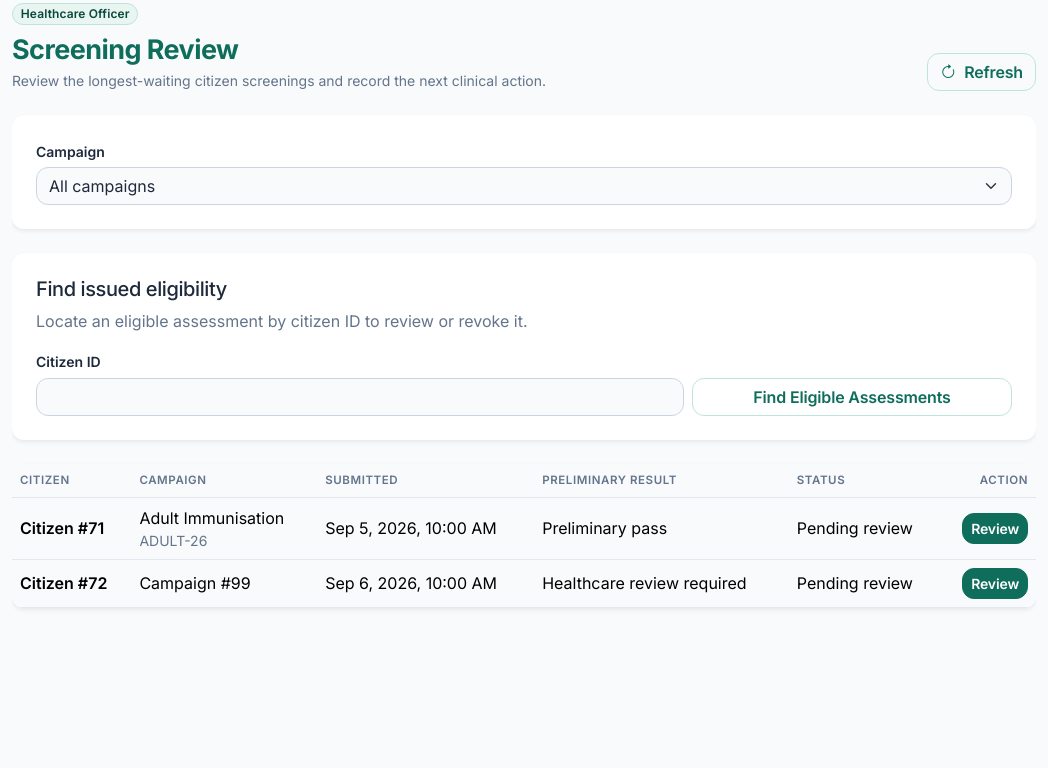
Scenario: HealthcareOfficerScreeningReviewQueuePage › validates the citizen ID before eligibility lookup
The width and height of the screenshot is (1048, 768).
Expected: the text "Citizen #71" is shown, [12,498,131,560]
Type "not-a-number" into the field labelled "Citizen ID".
click(360, 397); type("not-a-number")  # box [36,378,684,416]
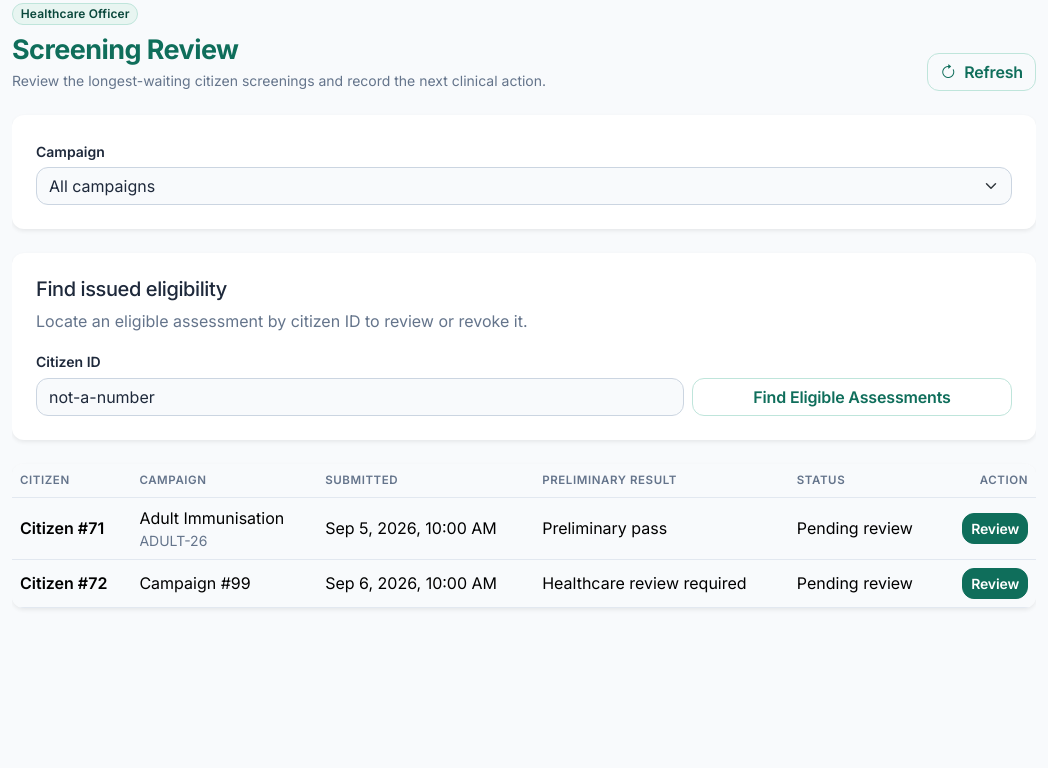
Click the button "Find Eligible Assessments".
click(852, 397)  # box [692,378,1012,416]
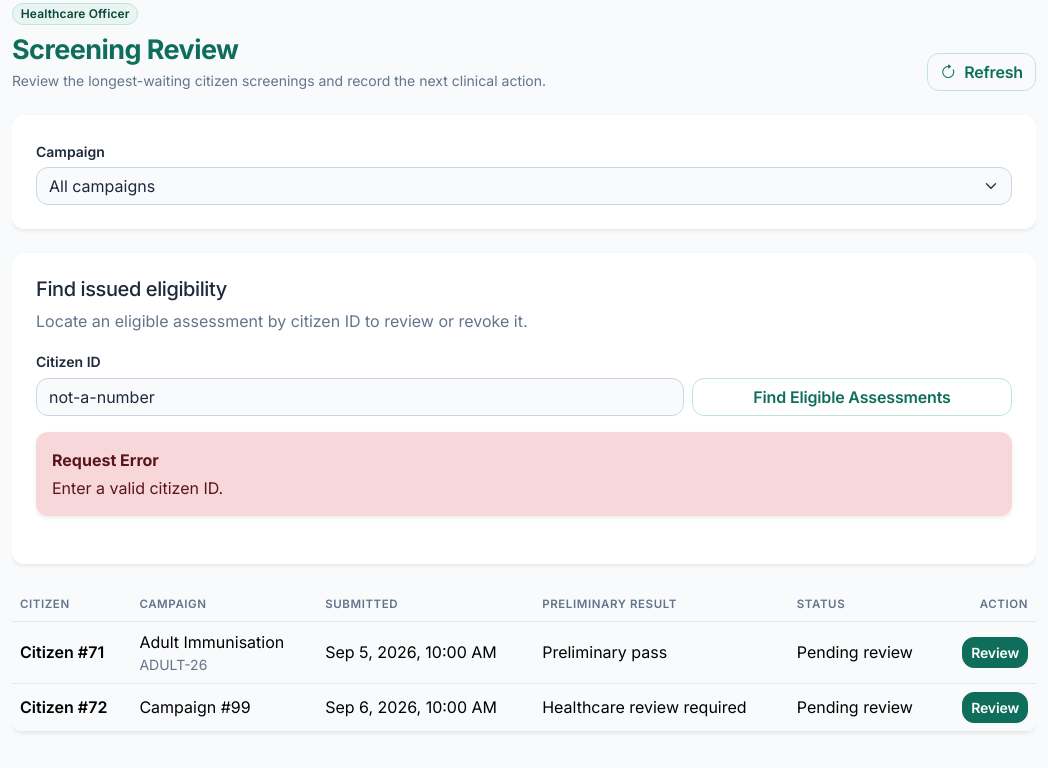
Result: the text "Enter a valid citizen ID." is shown at [52,476,223,500]
